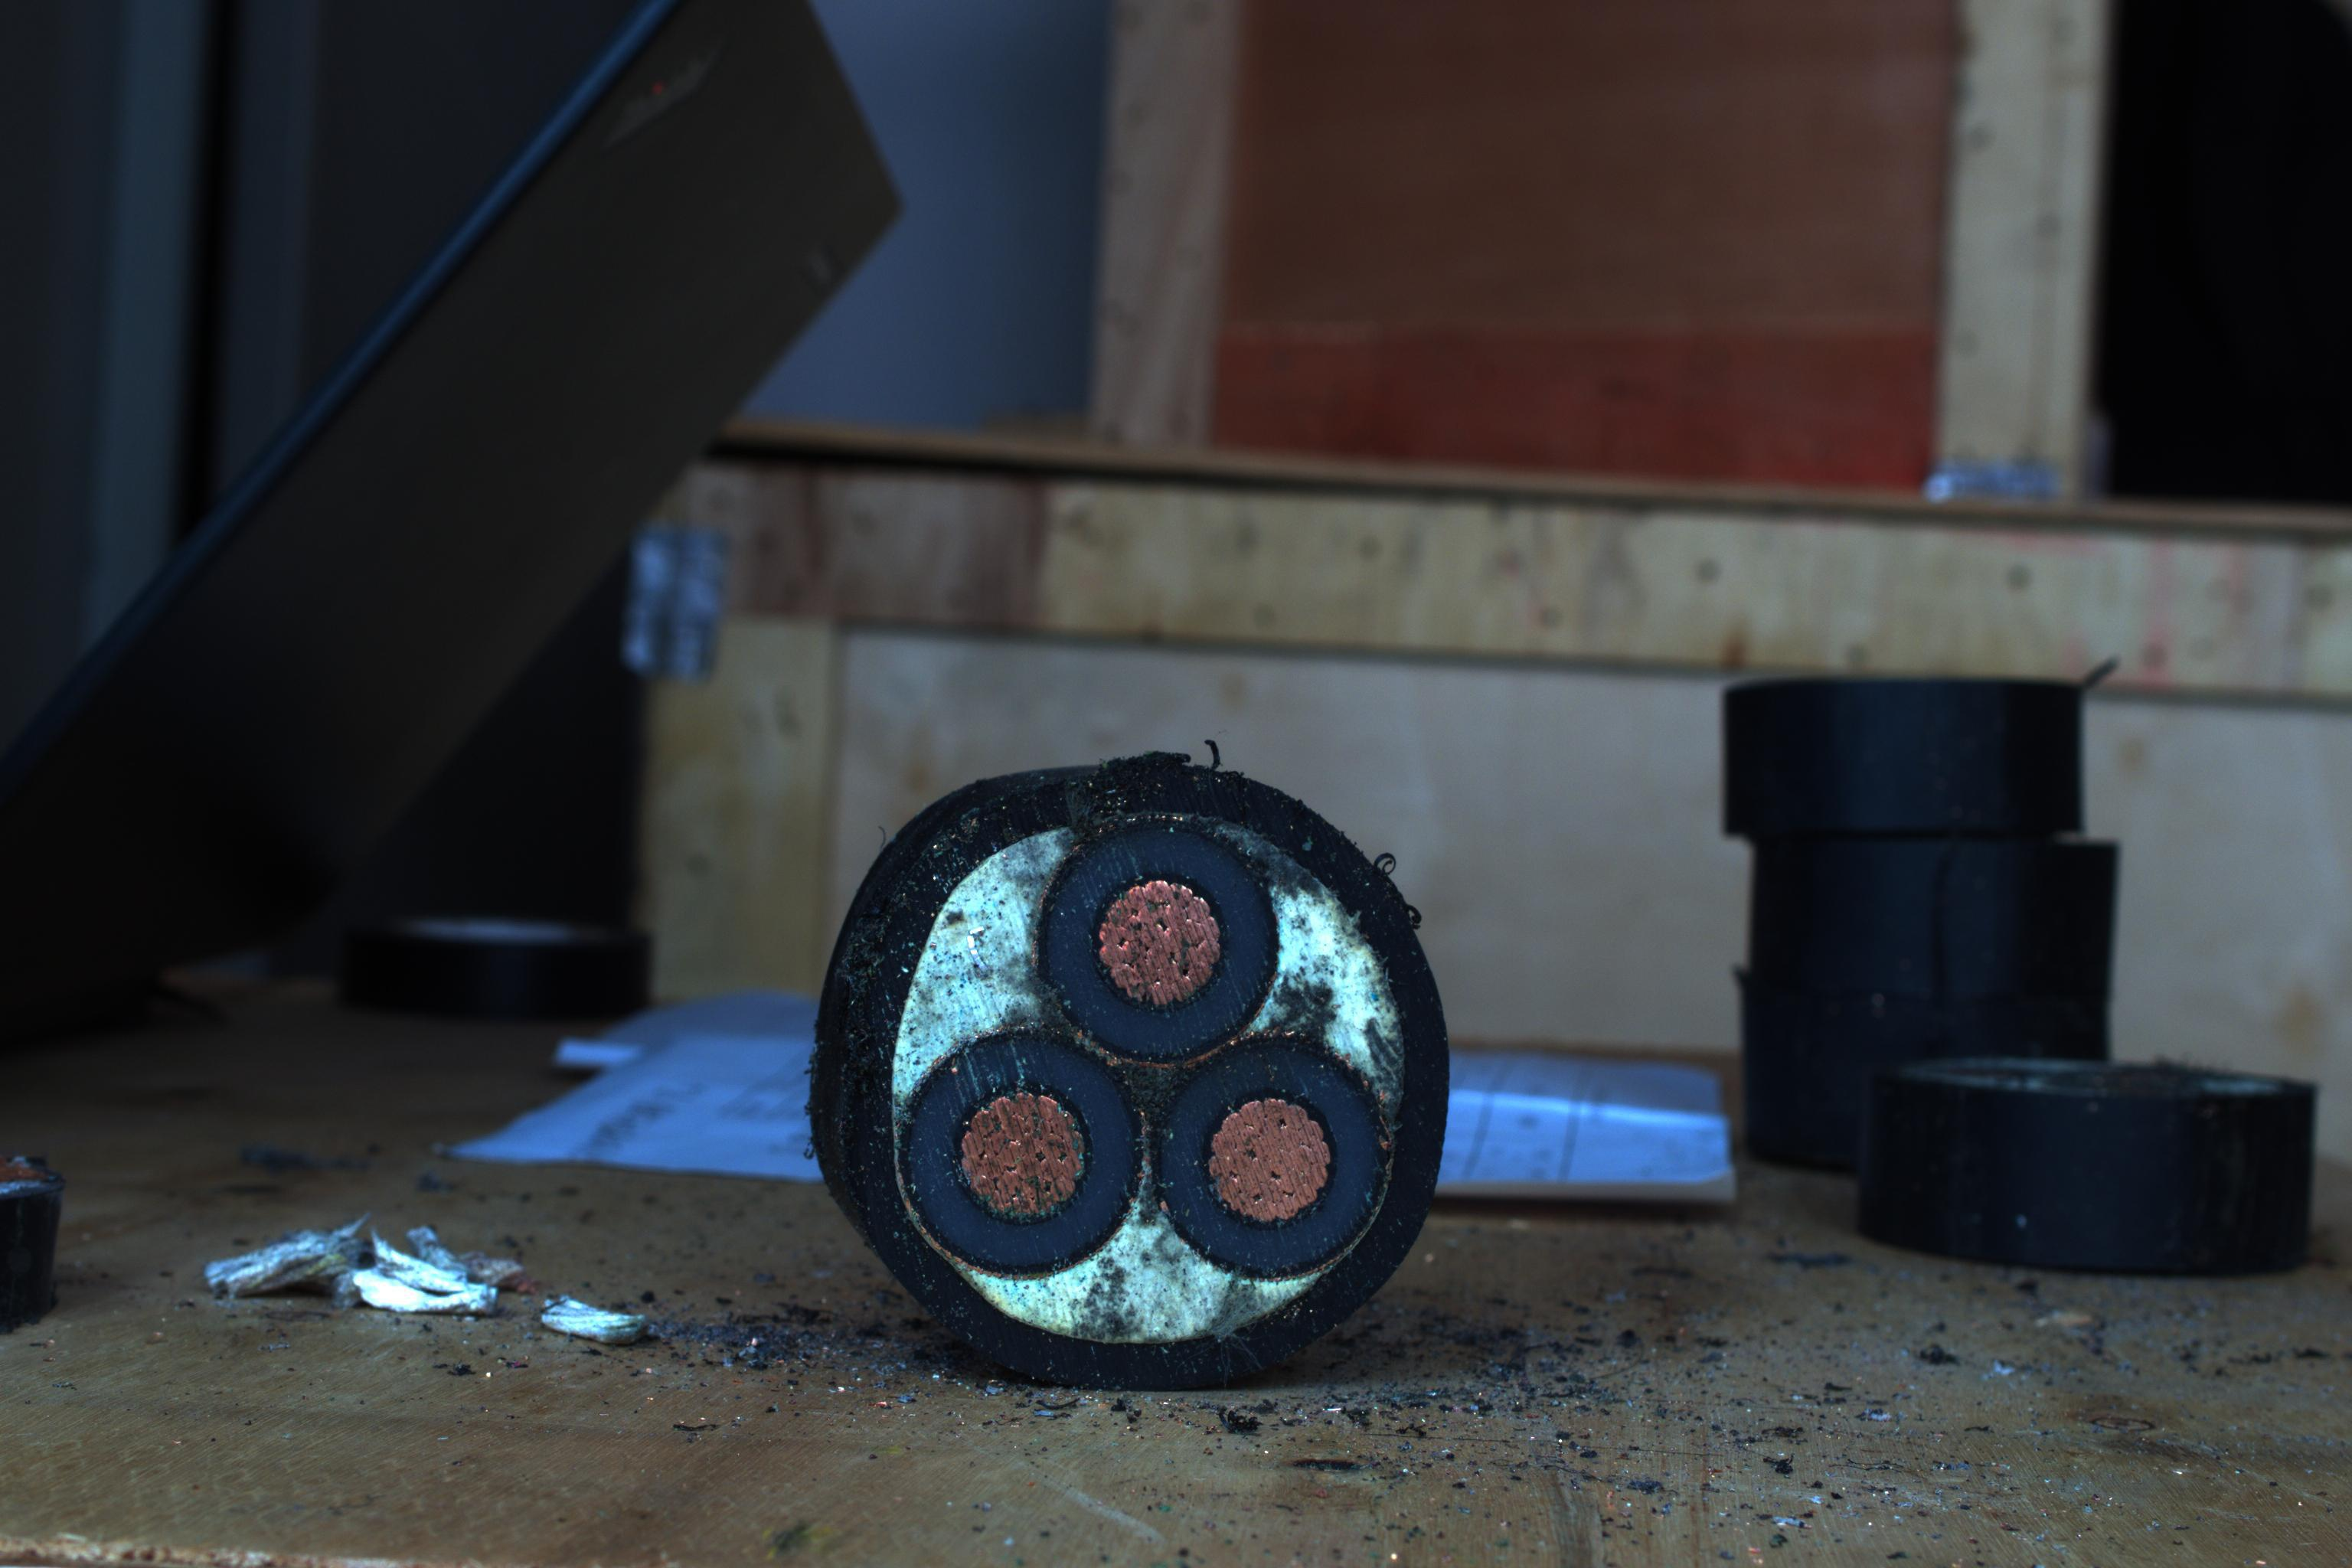ZA_YJV_8.7_10kV_3x120: (882, 772, 1445, 1365)
